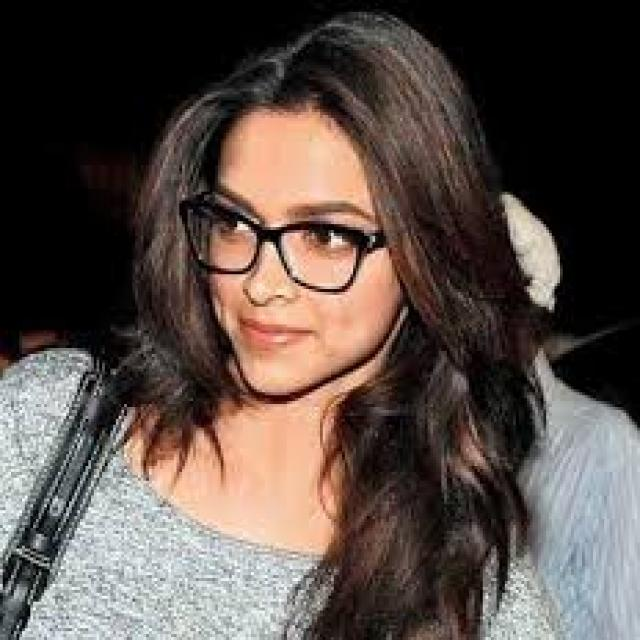Glasses: (169, 181, 388, 308)
